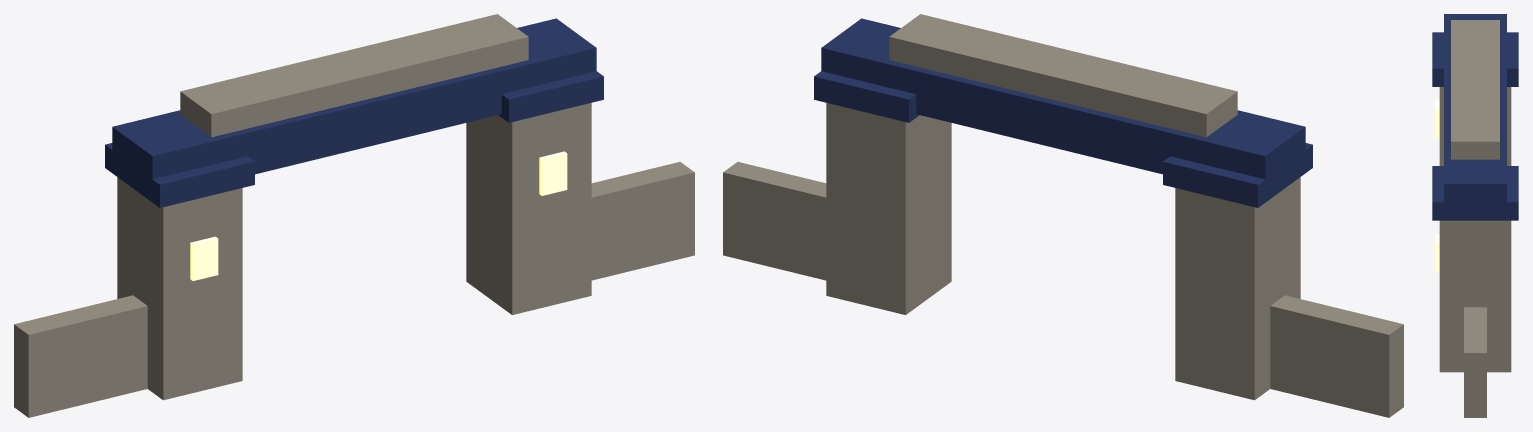
The model's file is gate-high.glb.
The picture shows the model from 3 angles, left to right: view 1: azimuth 30°, elevation 25°; view 2: azimuth 150°, elevation 25°; view 3: azimuth 270°, elevation 25°; orthographic projection. The views are drawn at different scales.
Size of the model in its own units: 42 by 16.1 by 6.
